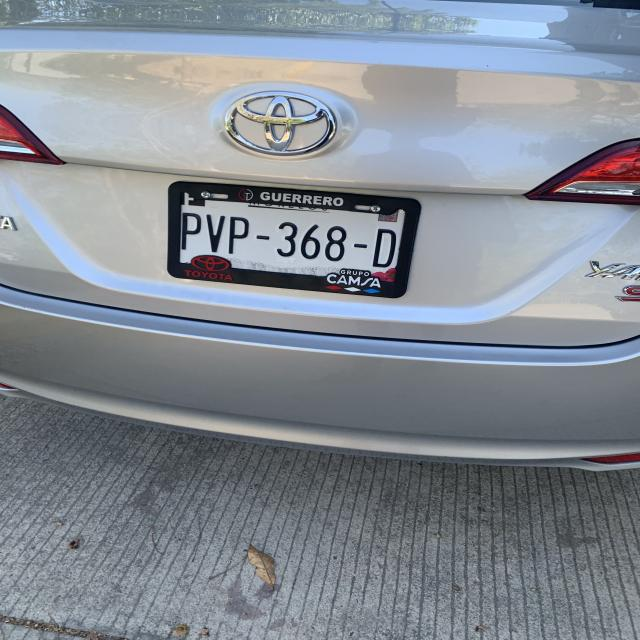placa: (170, 206, 404, 272)
